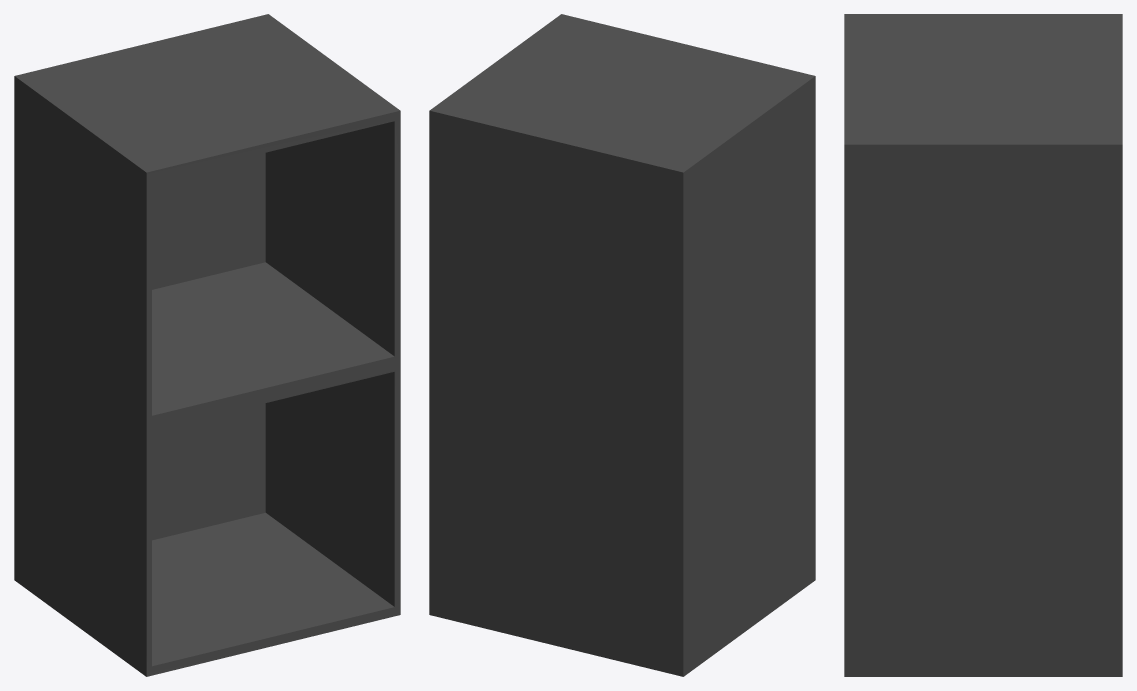
File: Rak Buku.fbx
3 views of the same model, side by side, from view 1: azimuth 30°, elevation 25°; view 2: azimuth 150°, elevation 25°; view 3: azimuth 270°, elevation 25° (orthographic). The views are drawn at different scales.
Visible parts, largest first — view 1: Cube.043; view 2: Cube.043; view 3: Cube.043.
Boxes of the visible parts, <box> form: Cube.043: <box>14,14,400,676</box>; Cube.043: <box>429,14,815,676</box>; Cube.043: <box>844,14,1122,676</box>.
Bounding box in the file's own units: 104 × 197 × 93.31.
Materials: 1 (1 with a texture image).
